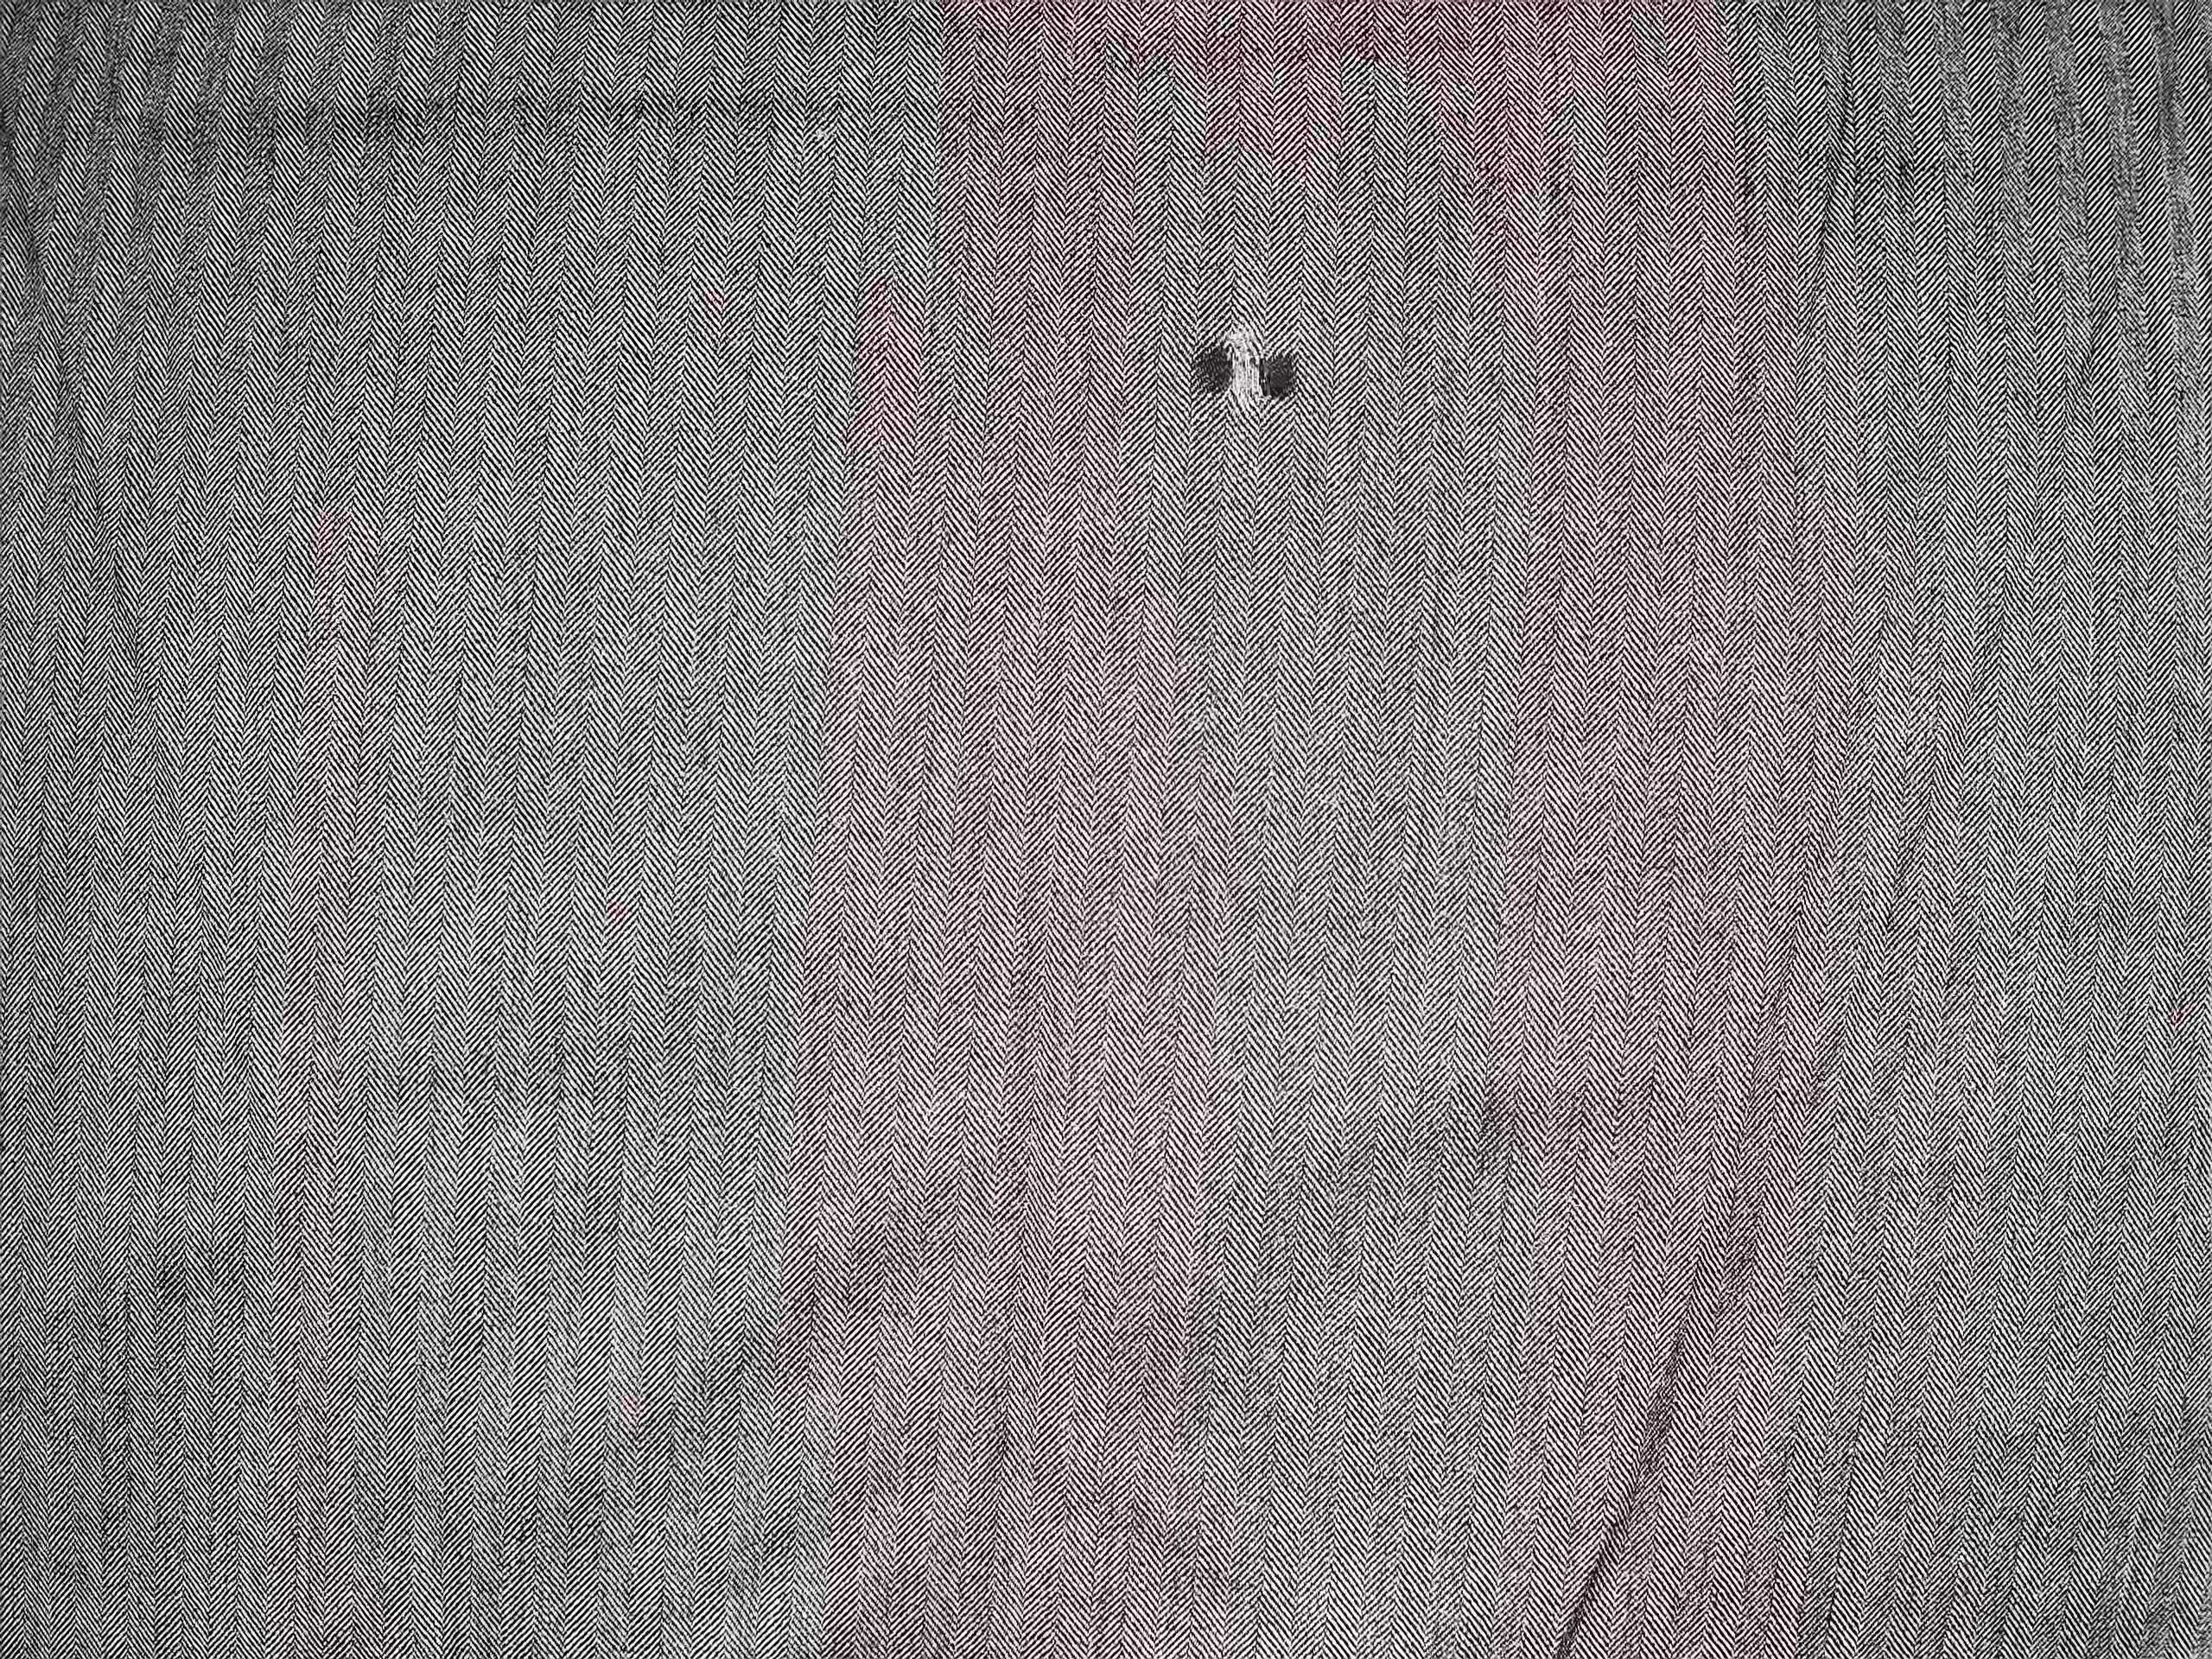rubbing-hole: (1177, 310, 1322, 425)
